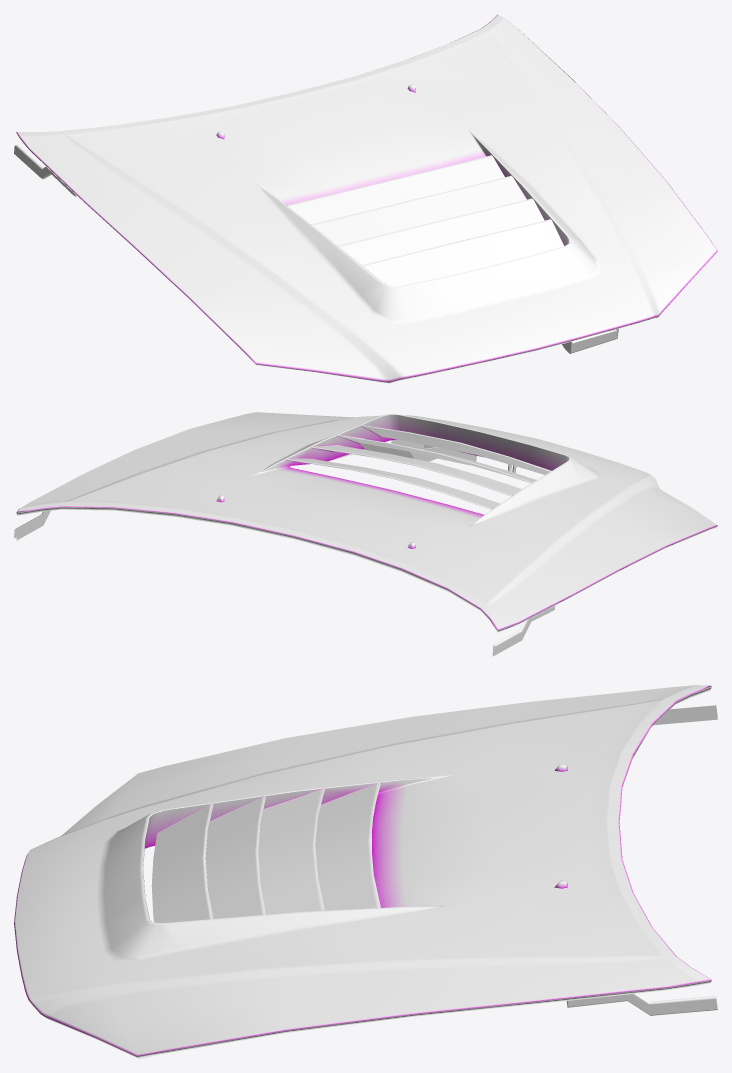
File: Car_Nissan_SkylineGTRVspecR34_1999_Hood_SetG.fbx
The picture shows the model from 3 angles, top to bottom: view 1: azimuth 30°, elevation 25°; view 2: azimuth 150°, elevation 25°; view 3: azimuth 270°, elevation 25°; orthographic projection. The views are drawn at different scales.
Visible parts, largest first — view 1: Hood 6; view 2: Hood 6; view 3: Hood 6.
Boxes of the visible parts, x1=… form: Hood 6: x1=14, y1=14, x2=717, y2=383; Hood 6: x1=14, y1=412, x2=717, y2=656; Hood 6: x1=14, y1=685, x2=717, y2=1058.
Bounding box in the file's own units: 1.44 × 0.2992 × 1.43.
